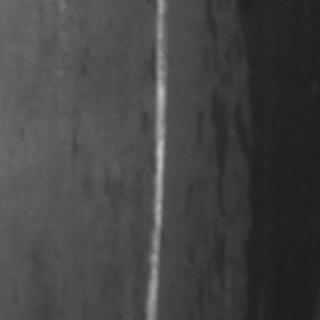inclusion: (200, 0, 316, 314)
scratches: (139, 0, 171, 316)
